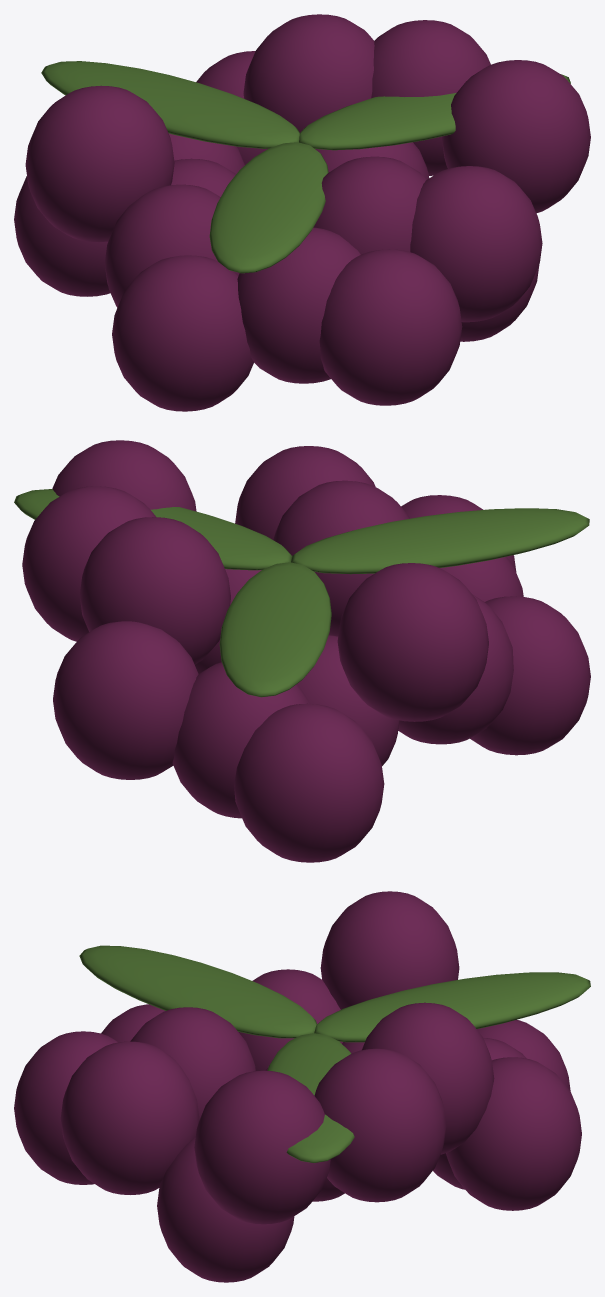
Rendered from berries.fbx.
3 renders of one model, top to bottom at view 1: azimuth 30°, elevation 25°; view 2: azimuth 150°, elevation 25°; view 3: azimuth 270°, elevation 25°, orthographic. The views are drawn at different scales.
Visible parts, largest first — view 1: SM_berries; view 2: SM_berries; view 3: SM_berries.
Part boxes in pixels (left/top/right/bottom): SM_berries: left=14, top=14, right=590, bottom=411; SM_berries: left=14, top=440, right=590, bottom=862; SM_berries: left=14, top=891, right=590, bottom=1282.
Bounding box in the file's own units: 13.02 × 6.29 × 13.3.
